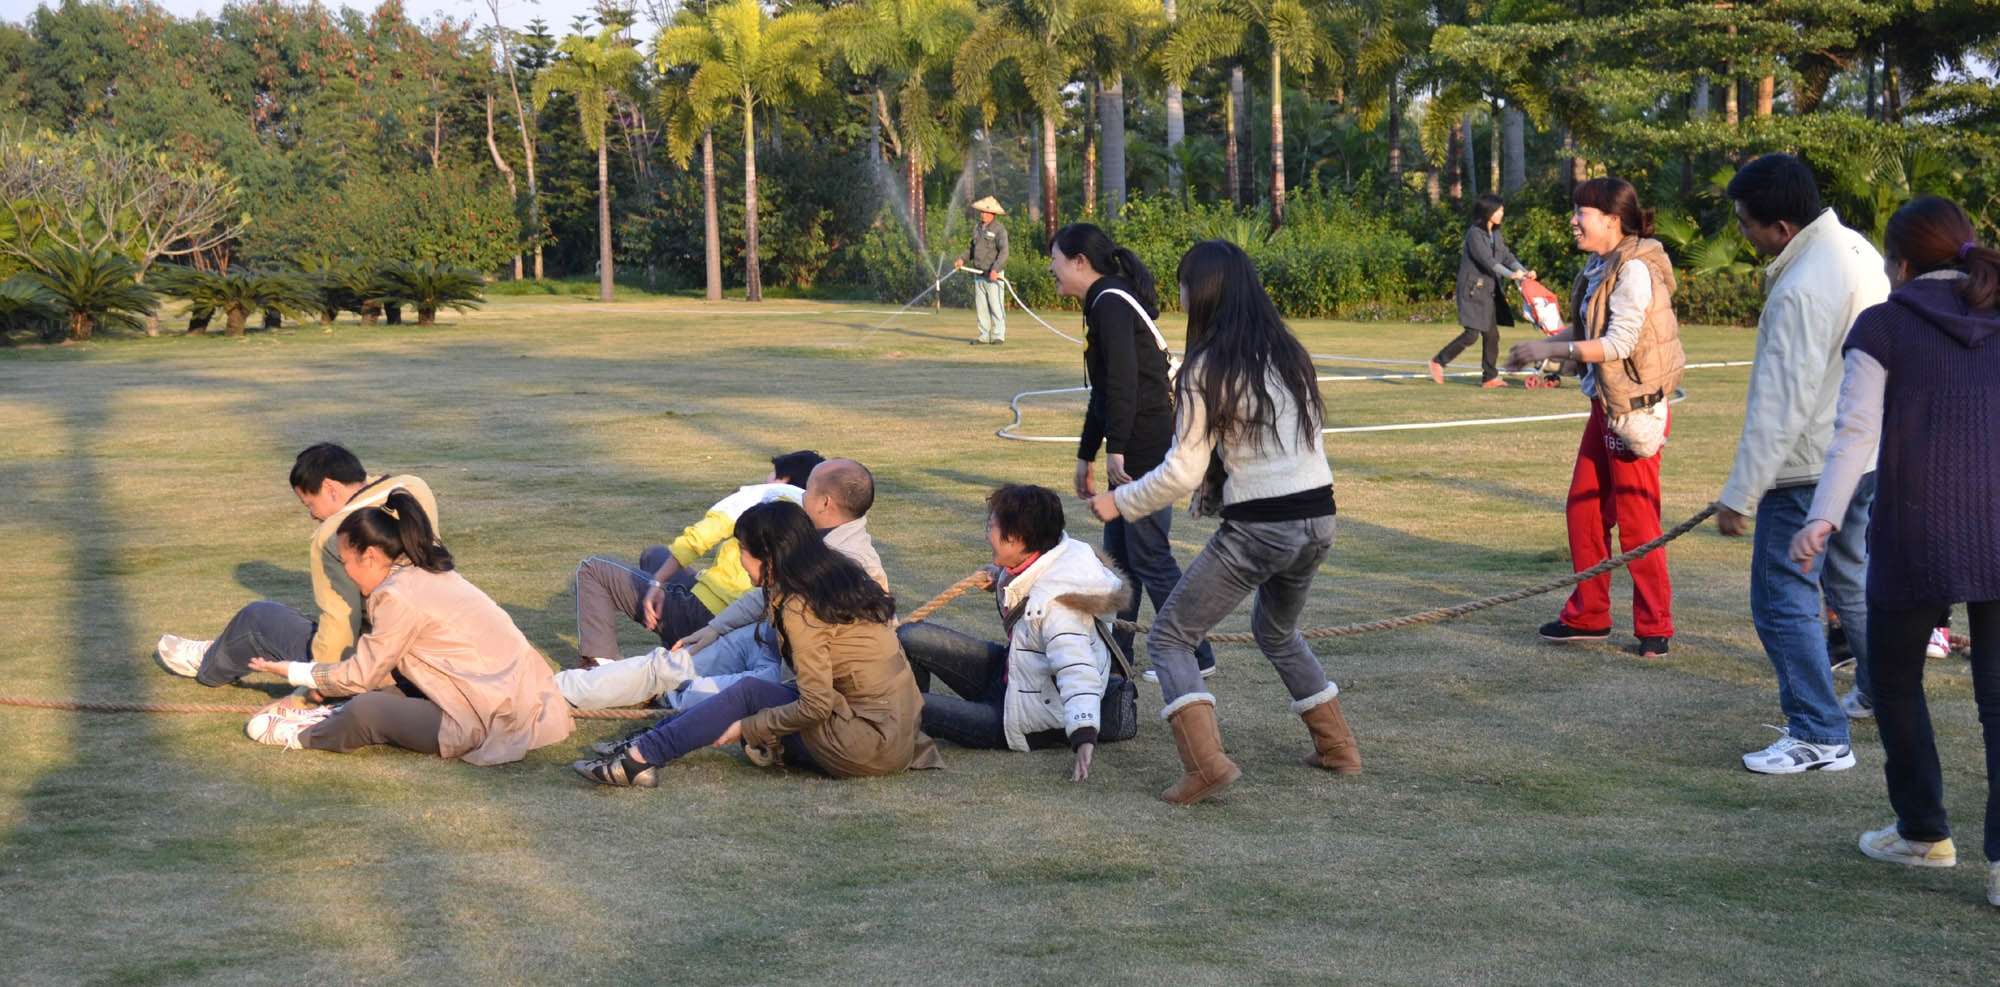falling: (542, 430, 848, 677)
